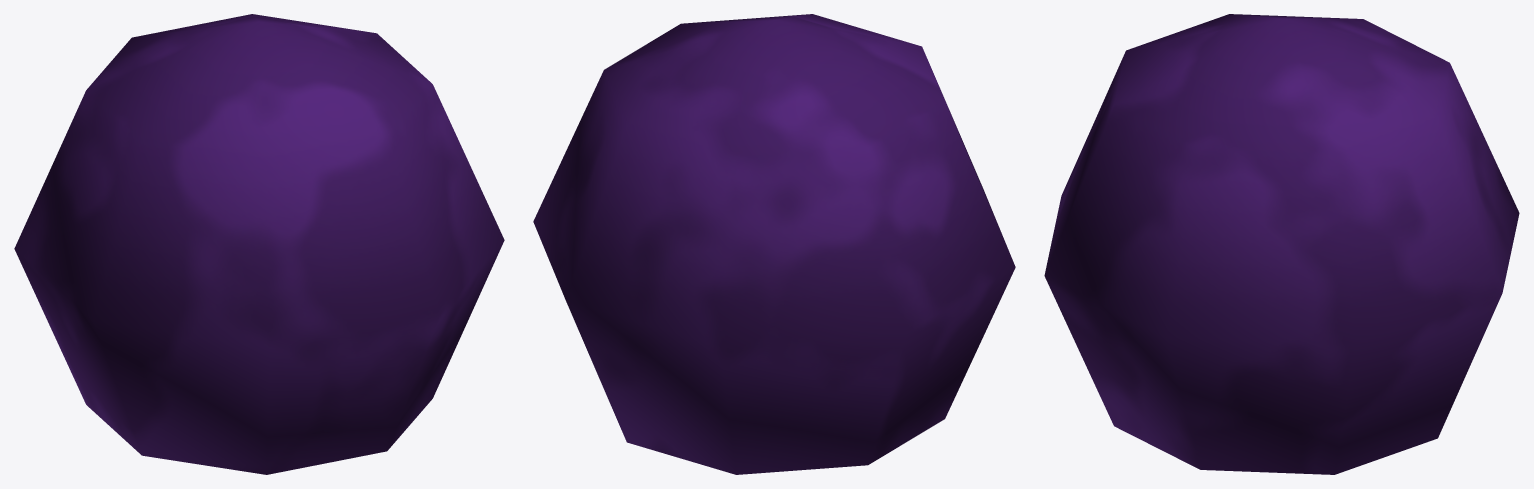
The model's file is grapesingle.glb.
3 views of the same model, side by side, from view 1: azimuth 30°, elevation 25°; view 2: azimuth 150°, elevation 25°; view 3: azimuth 270°, elevation 25° (orthographic).
Parts seen in each view (by area): view 1: grapesingle; view 2: grapesingle; view 3: grapesingle.
Part boxes in pixels (x1,y1,x2,y2): grapesingle: [14, 14, 504, 474]; grapesingle: [533, 14, 1015, 474]; grapesingle: [1044, 14, 1519, 474].
Bounding box in the file's own units: 0.0806 × 0.0845 × 0.0806.
Materials: 1 (1 with a texture image).
